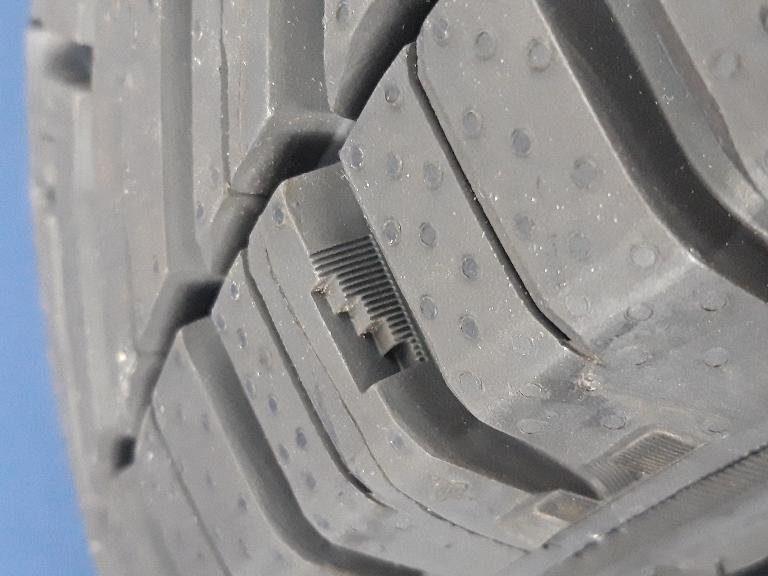temoin:100: (298, 227, 438, 402)
